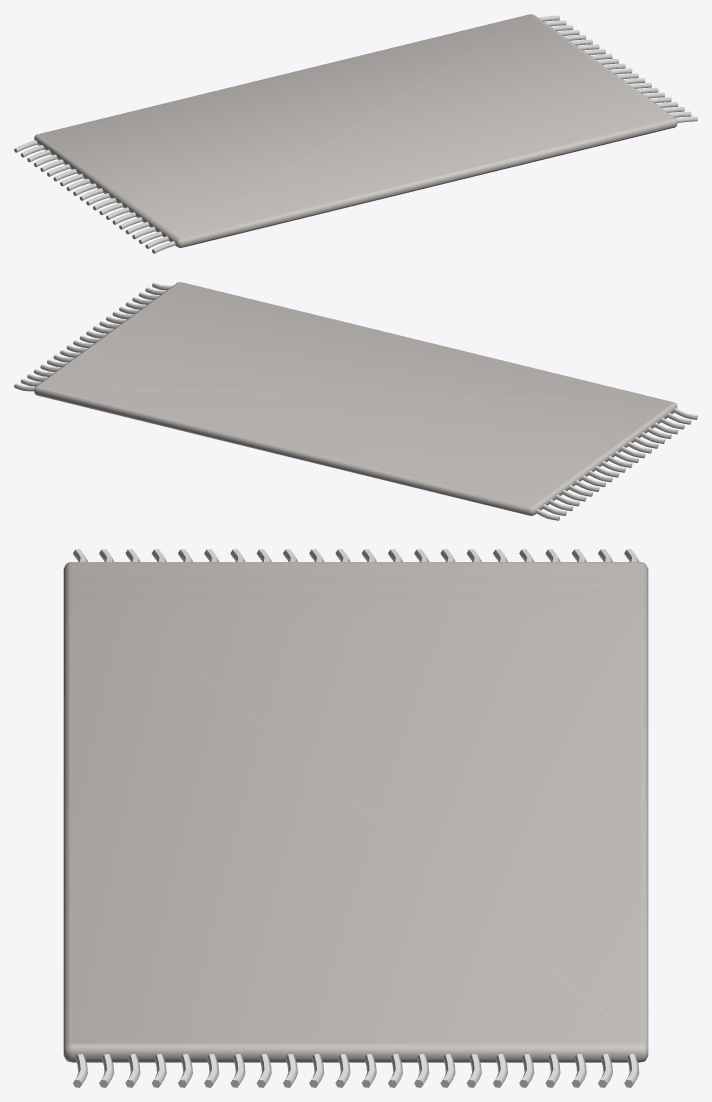
The model's file is stripe_rug.fbx.
3 views of the same model, one above another, from view 1: azimuth 30°, elevation 25°; view 2: azimuth 150°, elevation 25°; view 3: azimuth 270°, elevation 25° (orthographic). The views are drawn at different scales.
Visible parts, largest first — view 1: stripe_rug; view 2: stripe_rug; view 3: stripe_rug.
Boxes of the visible parts, x1,y1,x2,y2 form: stripe_rug: (14,14,697,253); stripe_rug: (14,282,697,520); stripe_rug: (63,549,648,1087).
Bounding box in the file's own units: 9.04 × 0.1509 × 4.2.
